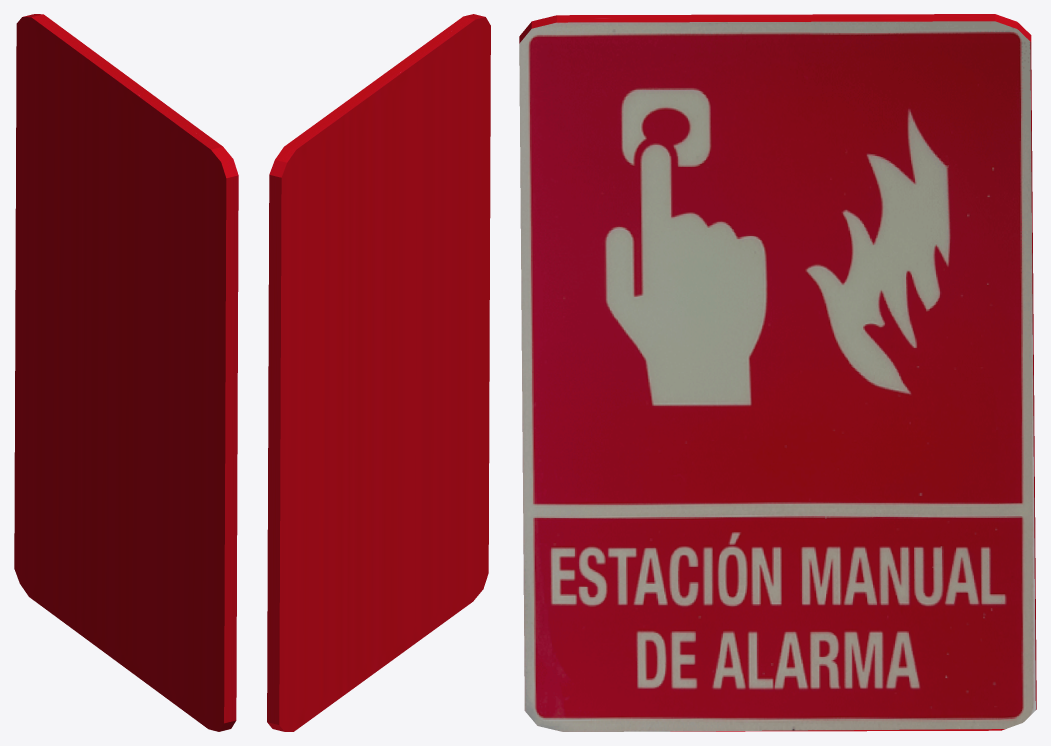
Rendered from Estacion manual letrero.fbx.
The picture shows the model from 3 angles, left to right: view 1: azimuth 30°, elevation 25°; view 2: azimuth 150°, elevation 25°; view 3: azimuth 270°, elevation 25°; orthographic projection. The views are drawn at different scales.
Visible parts, largest first — view 1: LETRERO.001; view 2: LETRERO.001; view 3: LETRERO.001.
Part boxes in pixels (box(x1,y1,x2,y2)): LETRERO.001: box(14, 14, 238, 731); LETRERO.001: box(267, 14, 490, 731); LETRERO.001: box(519, 14, 1036, 731).
Bounding box in the file's own units: 10.79 × 480 × 317.
Materials: 1 (1 with a texture image).
